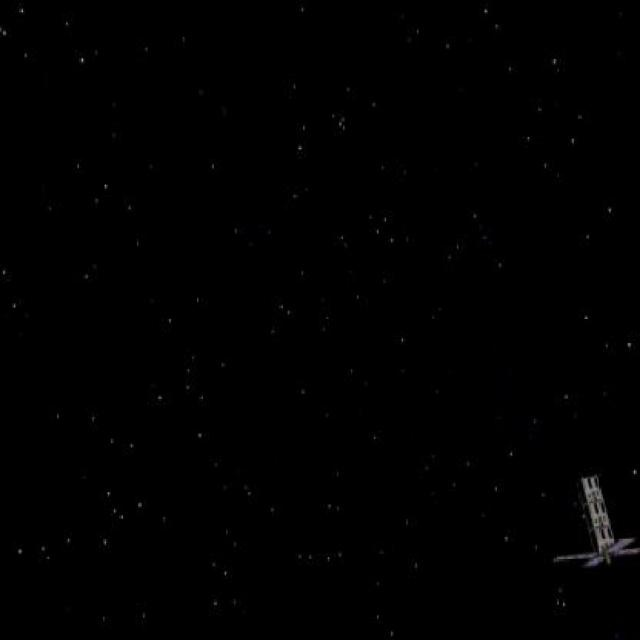satellite: (553, 475, 640, 584)
